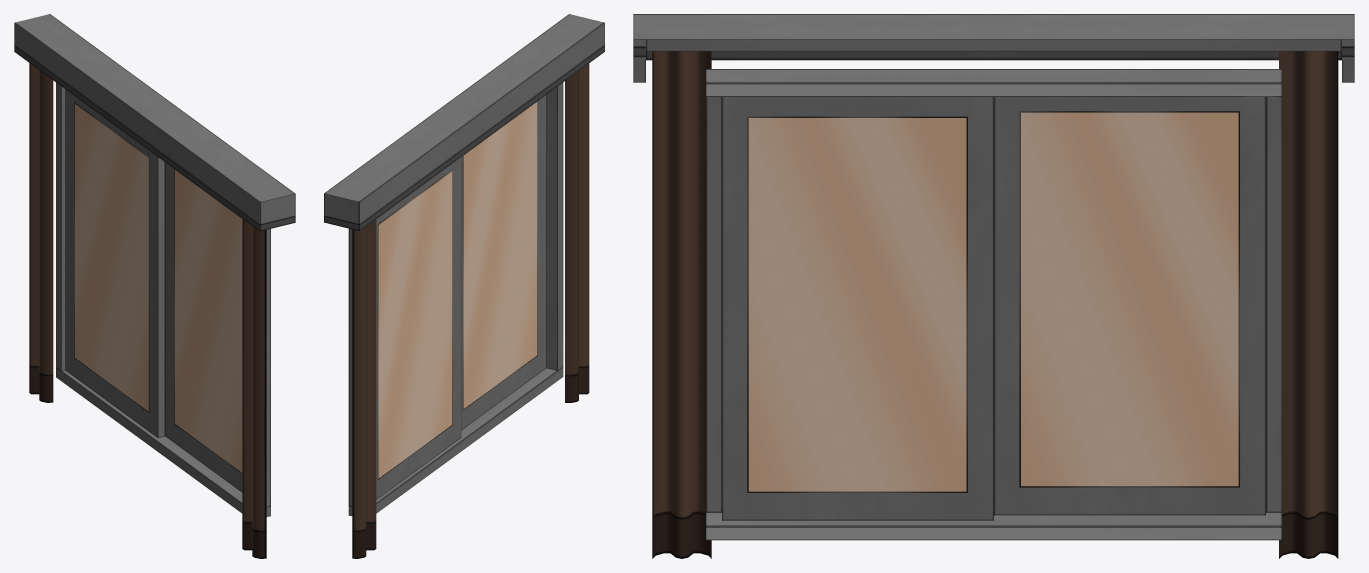
The model's file is window2.fbx.
3 renders of one model, left to right at view 1: azimuth 30°, elevation 25°; view 2: azimuth 150°, elevation 25°; view 3: azimuth 270°, elevation 25°, orthographic. The views are drawn at different scales.
Parts seen in each view (by area): view 1: polySurface914; view 2: polySurface914; view 3: polySurface914.
Boxes of the visible parts, x1=… form: polySurface914: x1=14, y1=14, x2=295, y2=558; polySurface914: x1=324, y1=14, x2=604, y2=558; polySurface914: x1=633, y1=14, x2=1354, y2=558.
Bounding box in the file's own units: 0.1521 × 1.48 × 1.81.
